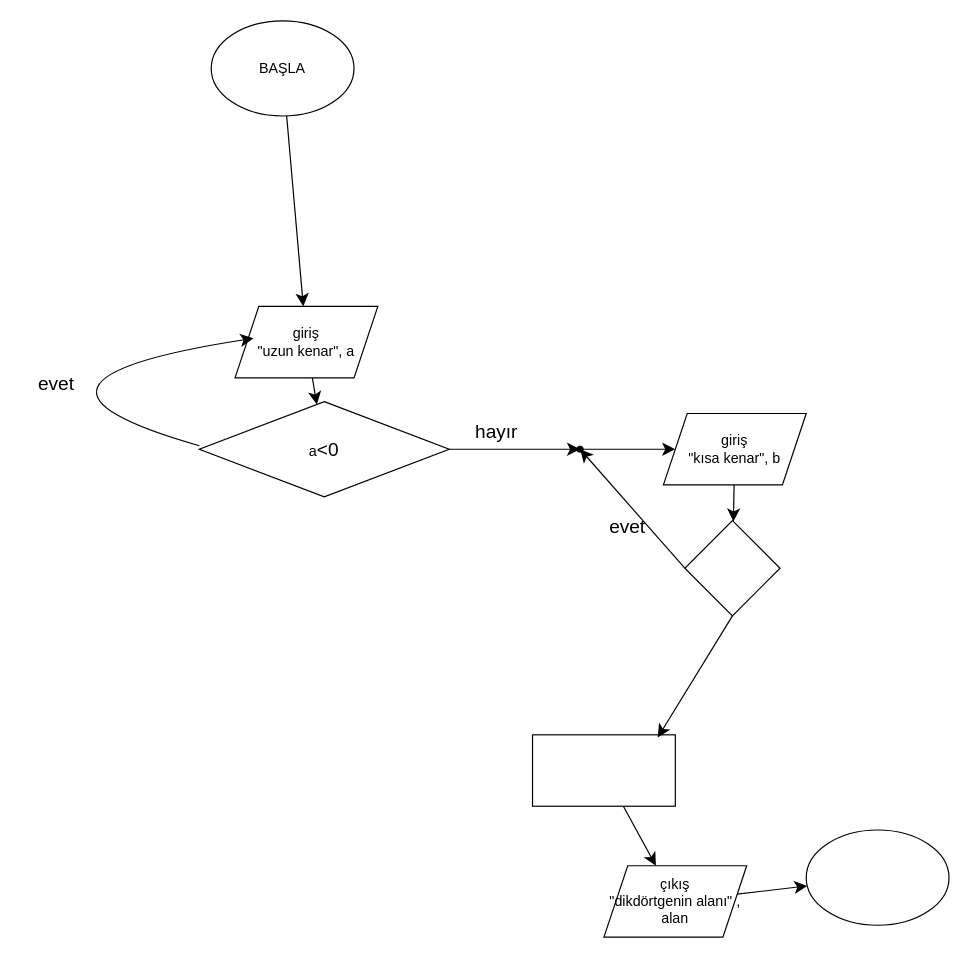
This 970x958 diagram has some shape labels left out. The centre of each missing label's shape, as x and y in pixels:
"alan= a*b" belongs at point 603,770.
"b <0" belongs at point 732,567.
"dur" belongs at point 877,877.
